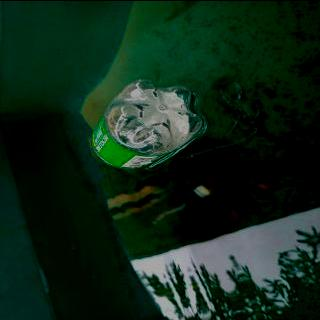bottle: (88, 77, 206, 171)
